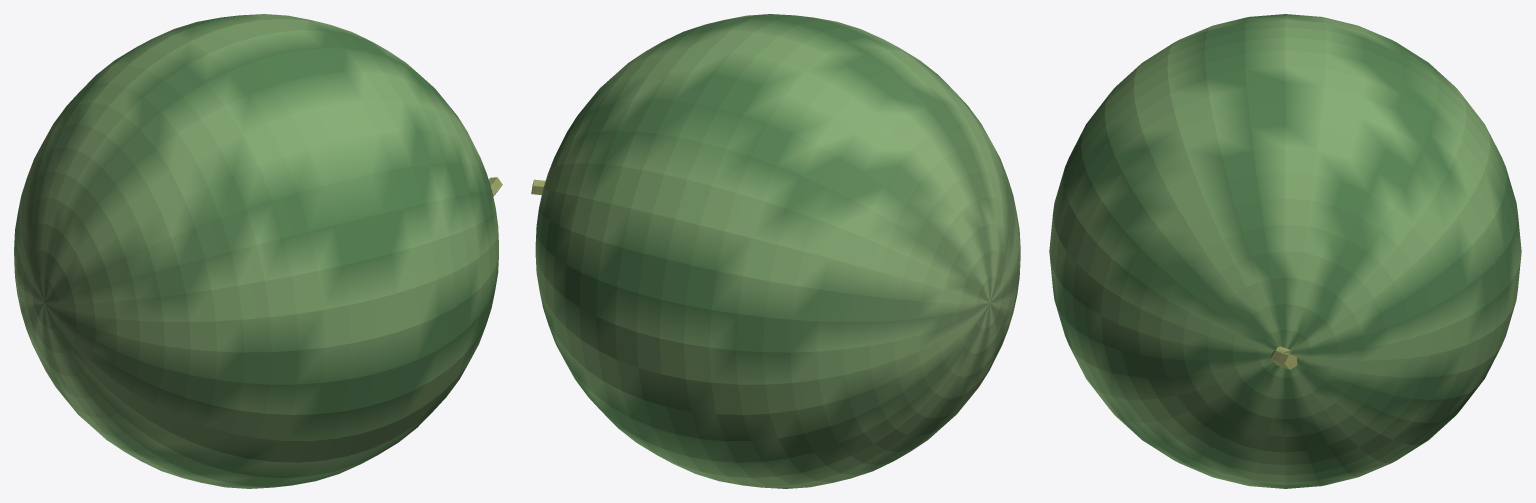
The model's file is watermelon.glb.
The picture shows the model from 3 angles, left to right: view 1: azimuth 30°, elevation 25°; view 2: azimuth 150°, elevation 25°; view 3: azimuth 270°, elevation 25°; orthographic projection.
Visible parts, largest first — view 1: watermelon; view 2: watermelon; view 3: watermelon.
Boxes of the visible parts, left/top/right/bottom form: watermelon: left=14, top=14, right=502, bottom=488; watermelon: left=531, top=14, right=1020, bottom=488; watermelon: left=1049, top=14, right=1521, bottom=488.
Size of the model in its own units: 1.34 by 1.2 by 1.2.
